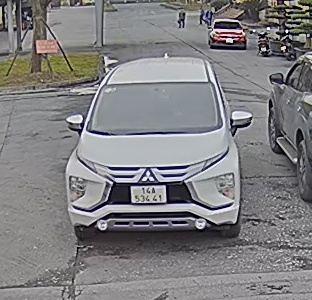vehicle plate: (129, 181, 168, 206)
